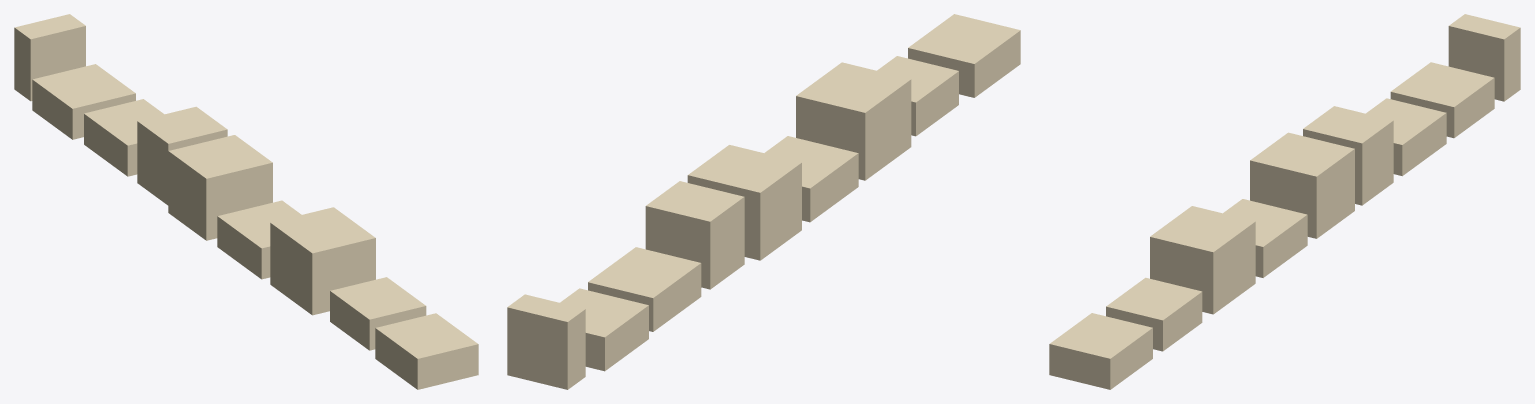
The model's file is HouseWallsE.fbx.
3 views of the same model, side by side, from view 1: azimuth 30°, elevation 25°; view 2: azimuth 150°, elevation 25°; view 3: azimuth 330°, elevation 25° (orthographic). The views are drawn at different scales.
Visible parts, largest first — view 1: HouseWallE0.001; view 2: HouseWallE0.001; view 3: HouseWallE0.001.
Part boxes in pixels (bbox=[...]): HouseWallE0.001: bbox=[14, 14, 478, 389]; HouseWallE0.001: bbox=[507, 14, 1020, 389]; HouseWallE0.001: bbox=[1049, 14, 1520, 389].
Size of the model in its own units: 1905 by 1700 by 20300.
